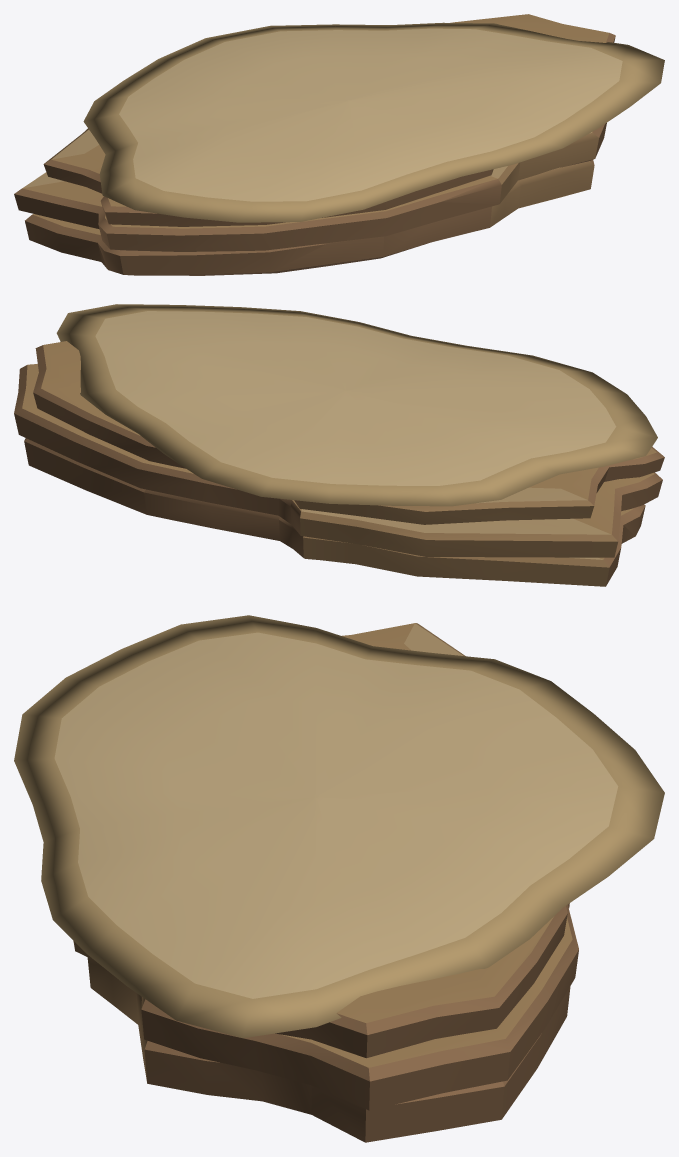
The model's file is fw_terrain_sand_profile.hi.glb.
3 views of the same model, one above another, from view 1: azimuth 30°, elevation 25°; view 2: azimuth 150°, elevation 25°; view 3: azimuth 270°, elevation 25° (orthographic). The views are drawn at different scales.
Parts seen in each view (by area): view 1: body; view 2: body; view 3: body.
Part boxes in pixels (x1,y1,x2,y2): body: (14, 14, 664, 275); body: (14, 304, 664, 586); body: (14, 615, 664, 1142).
Bounding box in the file's own units: 4.27 × 0.65 × 2.6.
